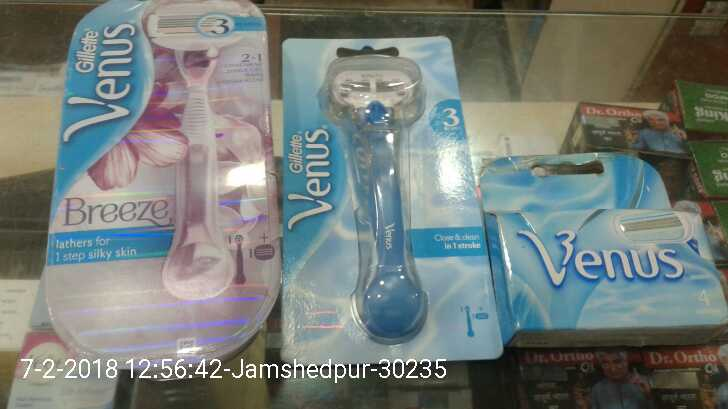venus: (50, 2, 276, 358), (279, 30, 503, 361), (483, 140, 728, 349)
